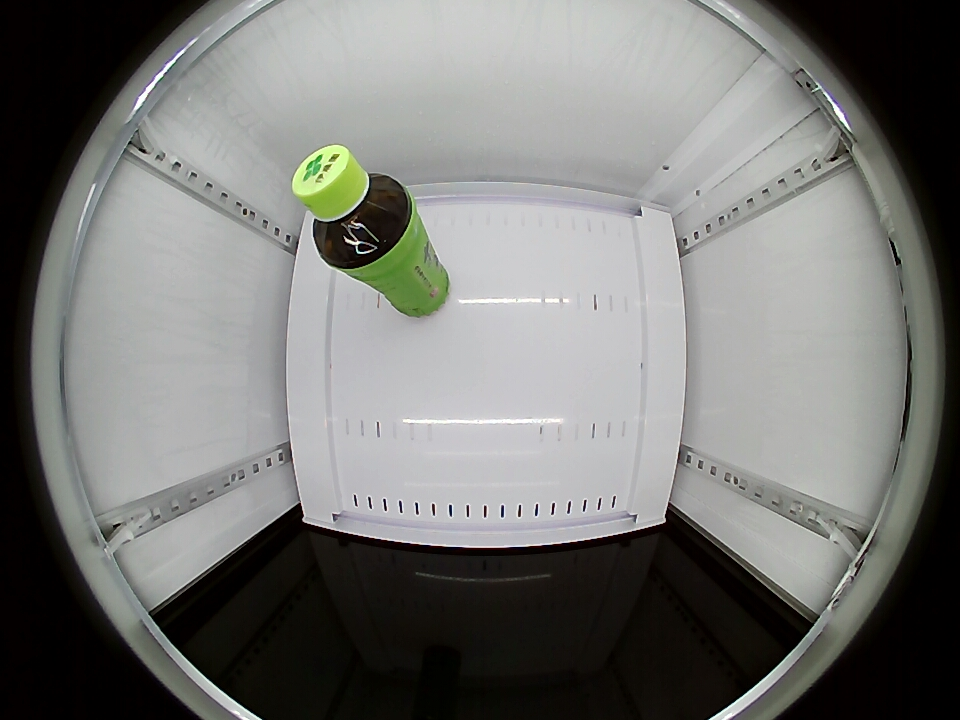yitengyuan: (292, 144, 413, 269)
